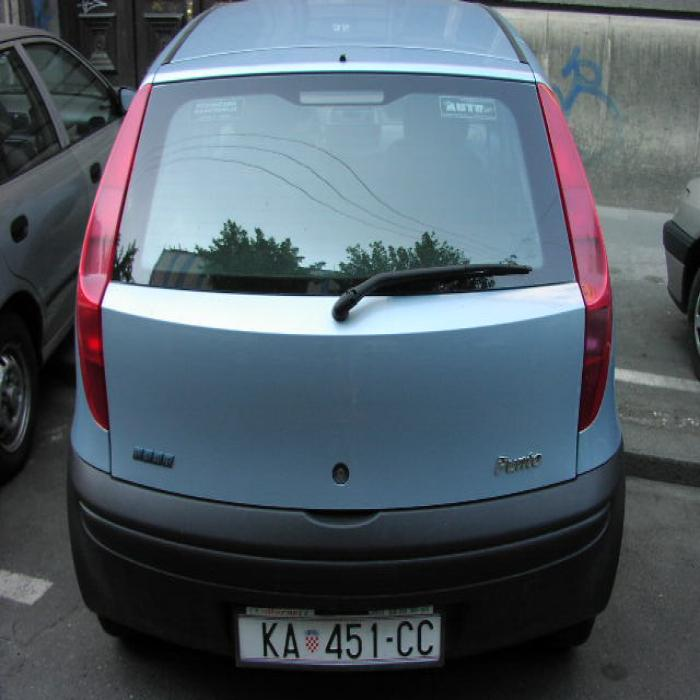number_plate: (236, 616, 440, 660)
